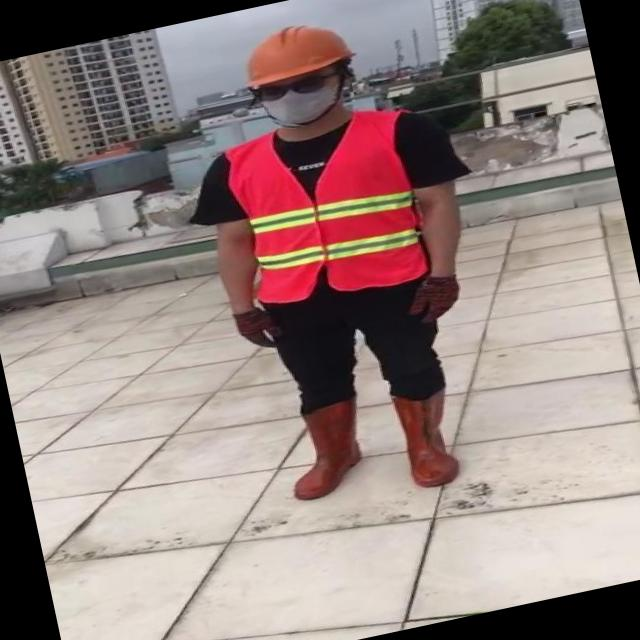hard_hat: (228, 9, 364, 94)
safety_vest: (222, 105, 431, 314)
vehicle: (158, 0, 518, 534)
work_boots: (277, 396, 373, 504), (386, 383, 466, 492)
